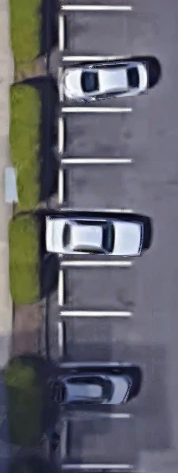Occupied: (60, 58, 133, 109), (61, 211, 131, 264), (61, 365, 130, 416)
Vacant: (60, 6, 133, 59), (60, 159, 132, 212), (60, 109, 131, 162), (61, 414, 131, 467), (60, 314, 130, 365), (61, 264, 130, 315)
